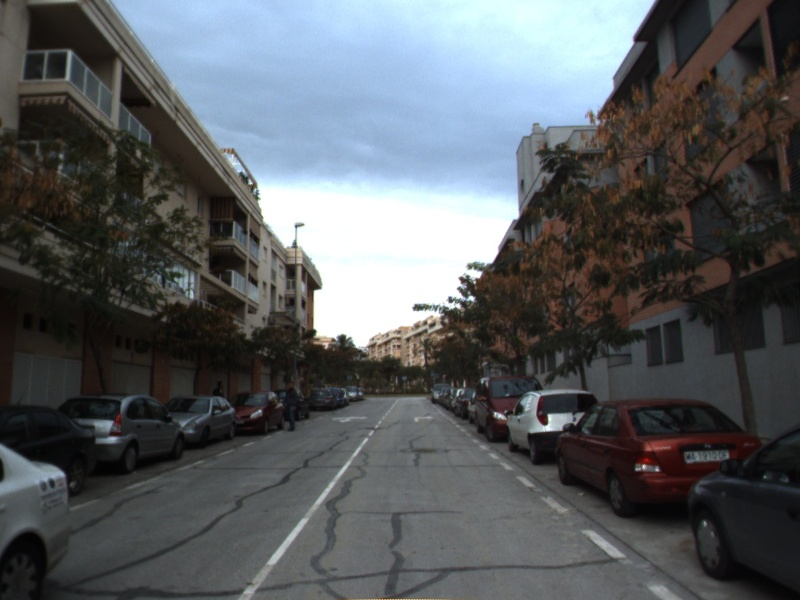RIGHT: (412, 413, 436, 424)
